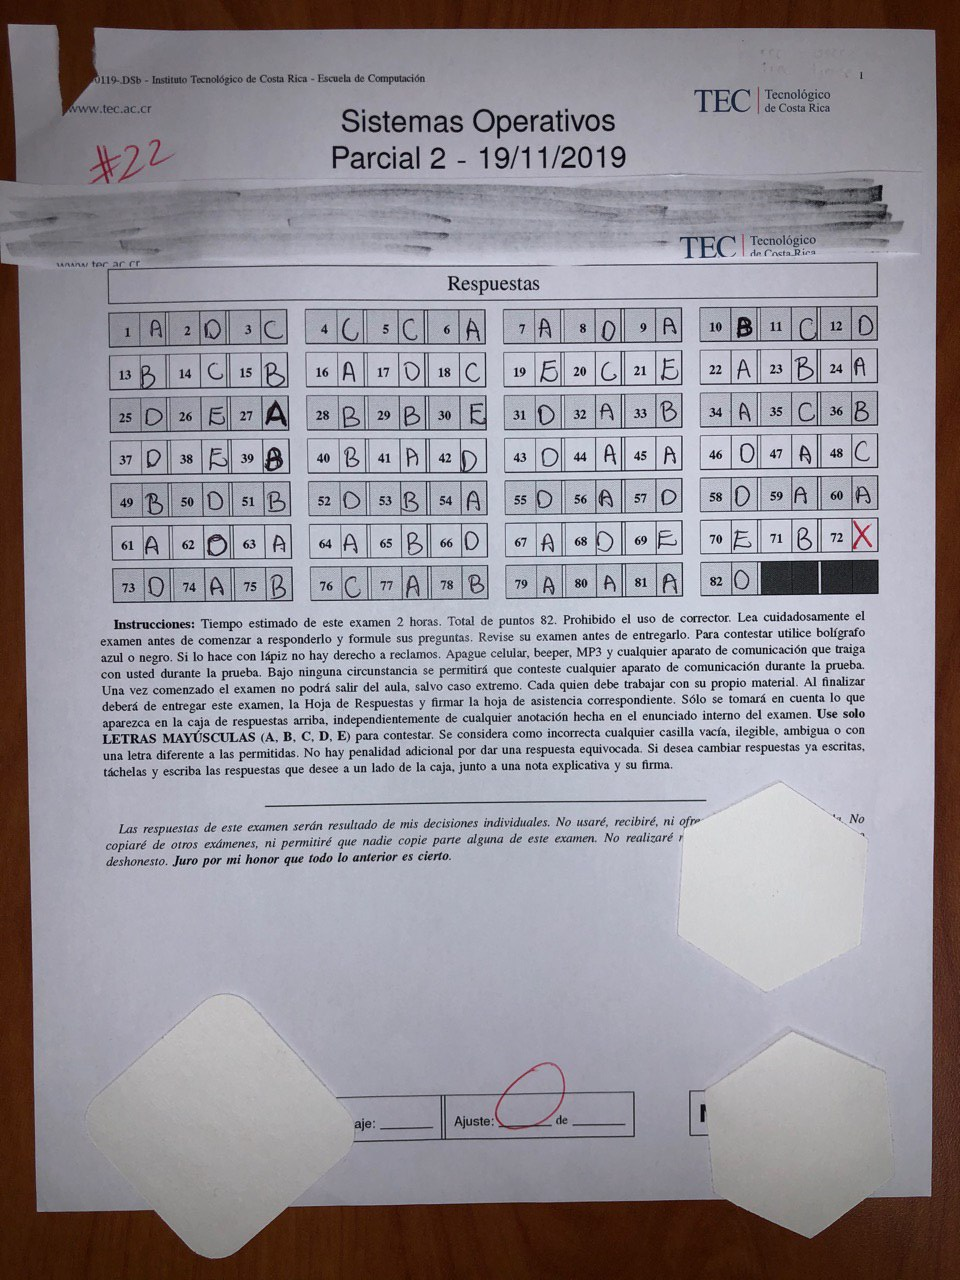RESPUESTA: (825, 520, 874, 551)
